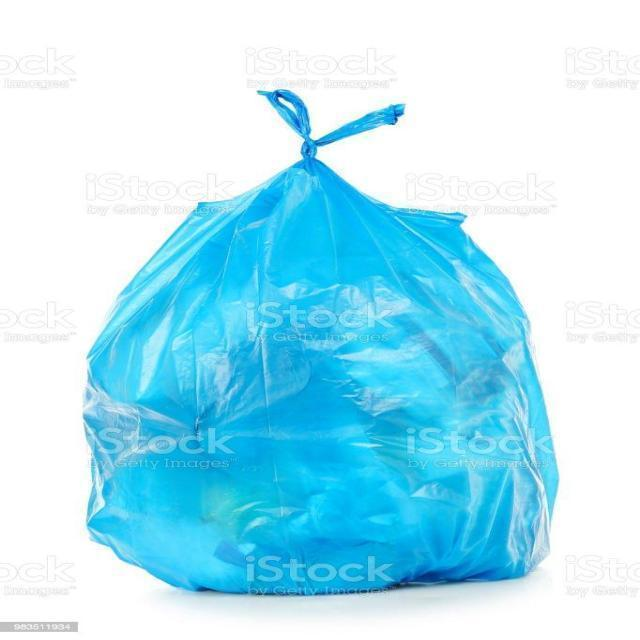KantongPlastik: (80, 87, 560, 596)
